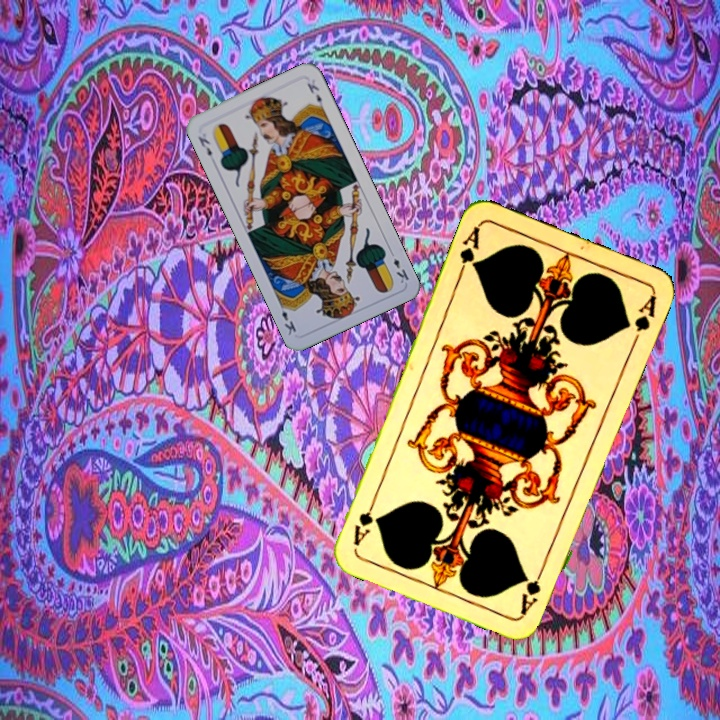EK: (385, 246, 412, 286), (194, 132, 214, 159)
GA: (516, 560, 548, 617), (454, 222, 483, 279)
